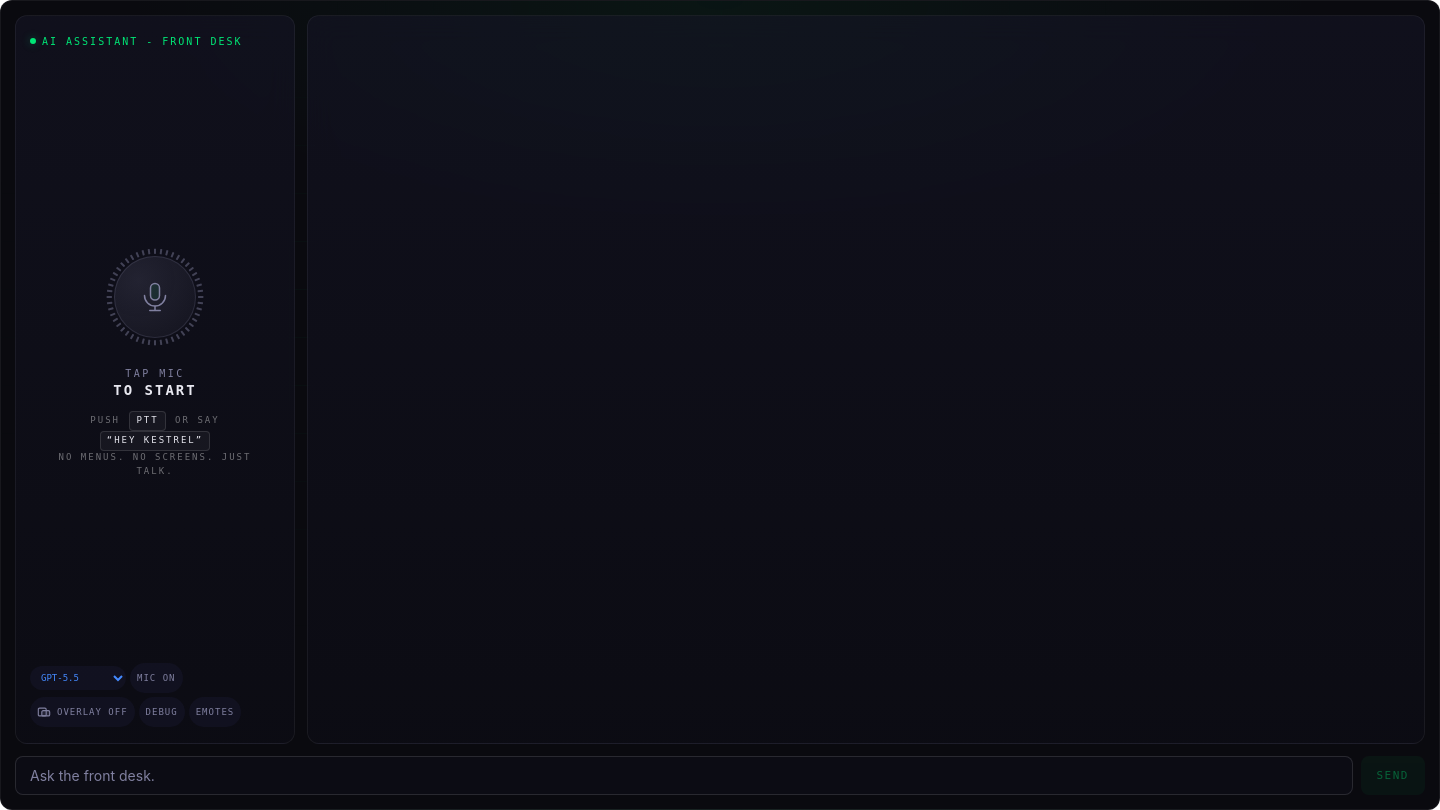
Test: AiChat conversation lifecycle › shows a typed message immediately and deduplicates its backend echo
Type "Show my latest lap" into the field with placeholder "Ask the front desk.". click: (684, 776)
box: [15,756,1352,795]
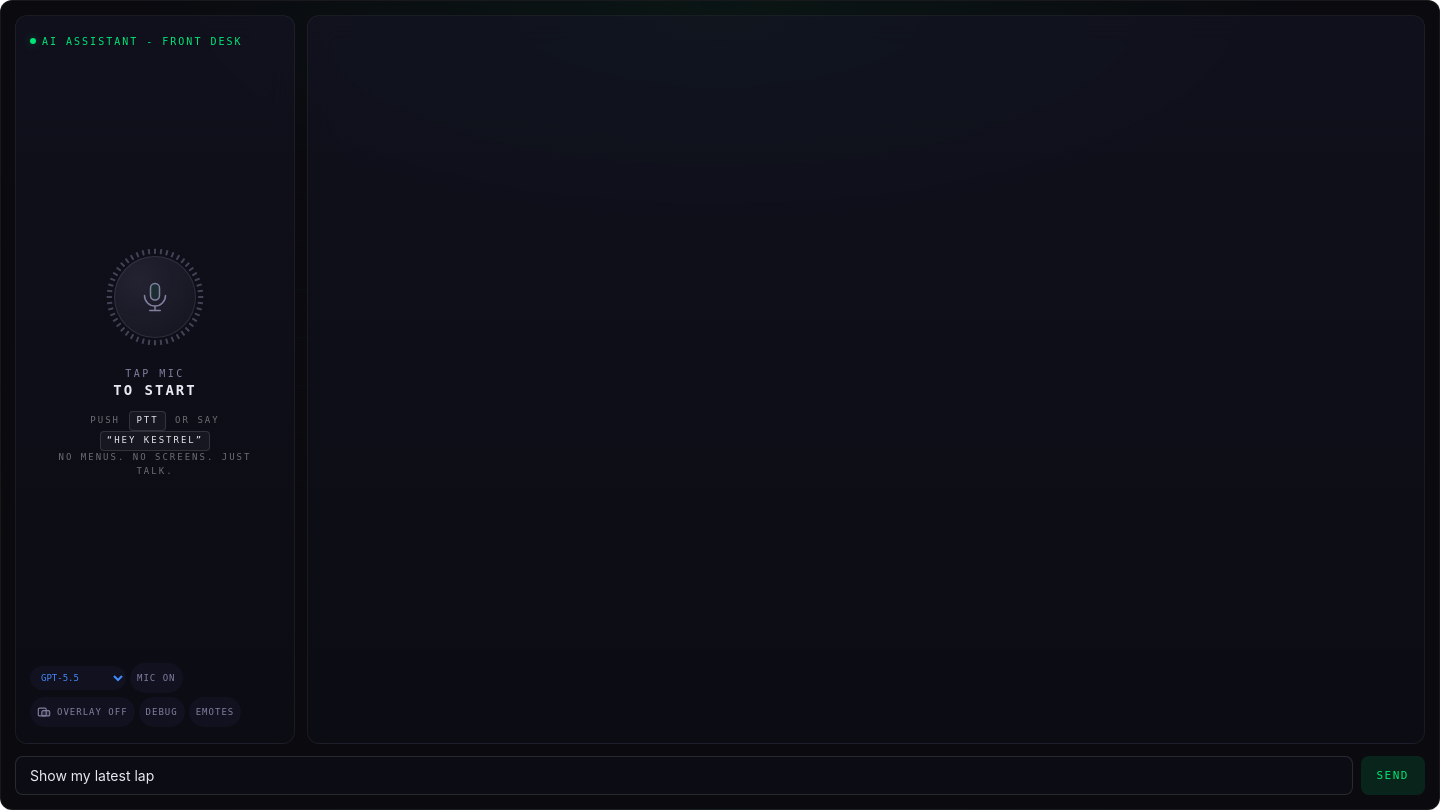
Click the button titled "Send". click: (1393, 776)
box: [1360,756,1425,795]
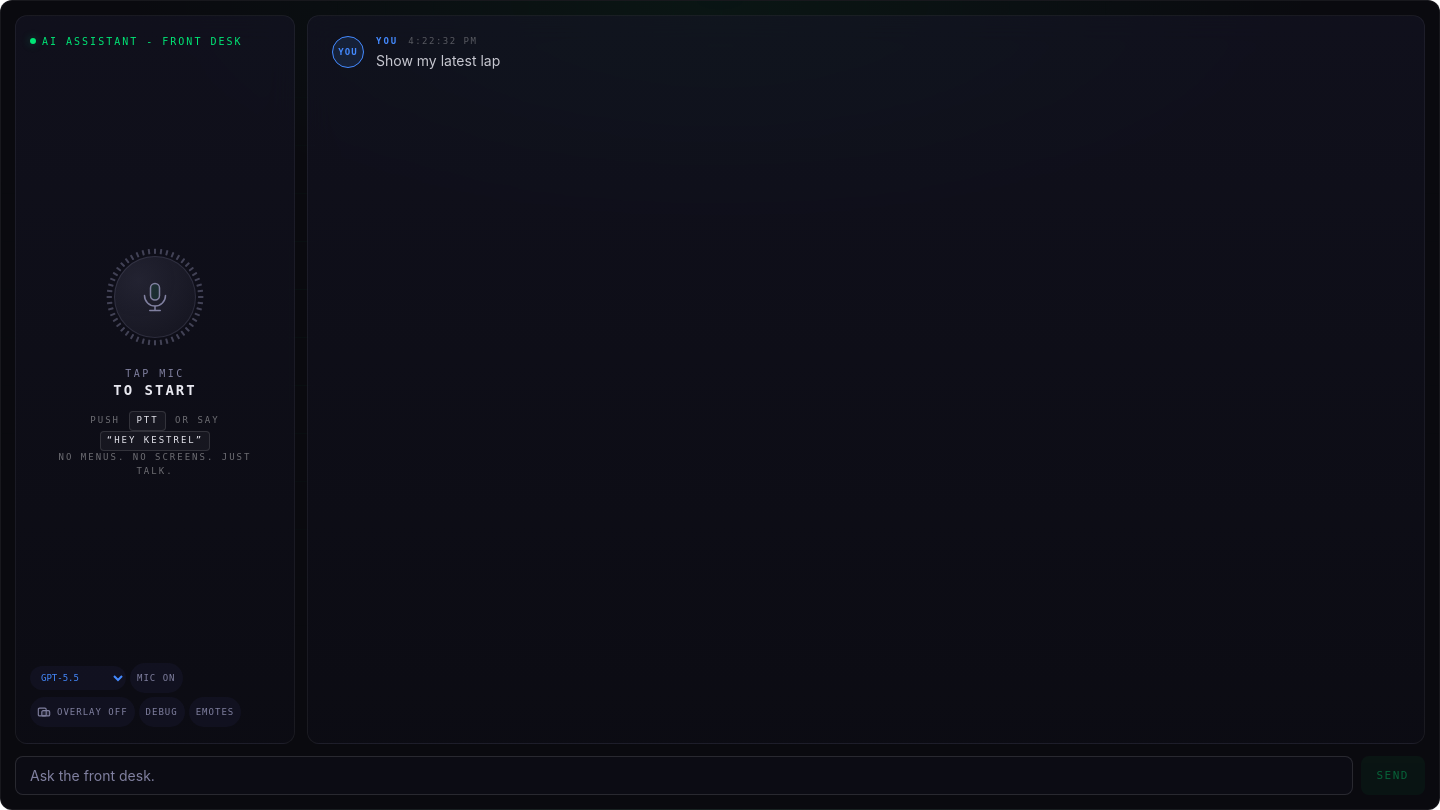
Result: the text "Show my latest lap" is shown at [376,52,500,69]
Result: the field with placeholder "Ask the front desk." is empty at [15,756,1352,795]
Result: the number of elements with class "ai-chat__msg--driver" is 1 at [332,36,500,69]
